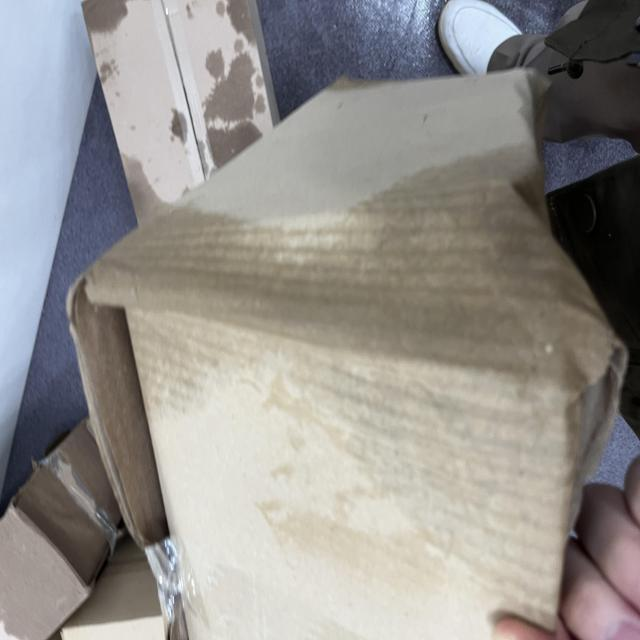wet: (35, 155, 362, 640)
